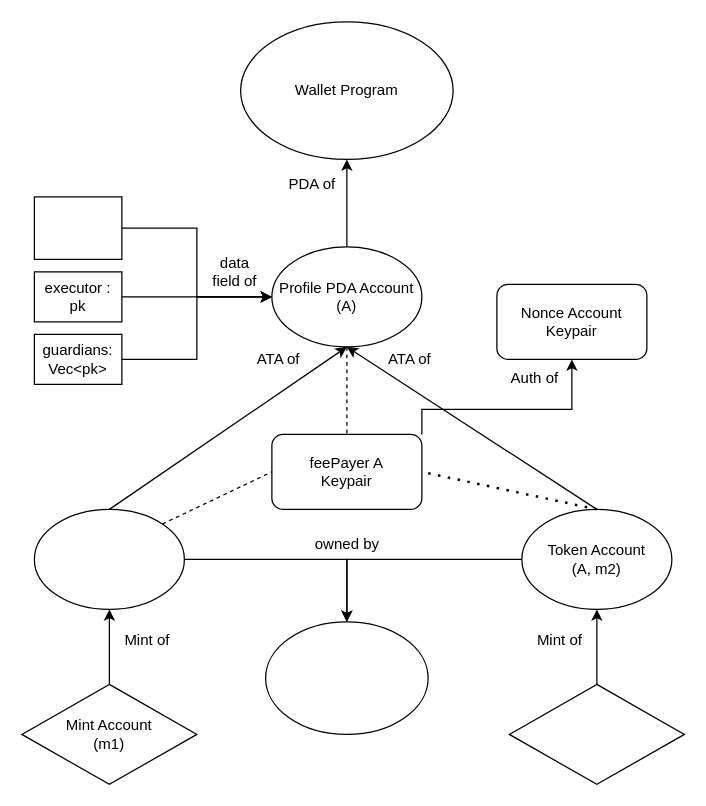
Image size: 706x806. Some labels were removed from this diagram. The centre of each missing label's shape, as x and y in pixels:
"Mint Account (m2)" belongs at point 596,733.
"recovery_ threshold: u8" belongs at point 77,227.
"Token Account (A, m1)" belongs at point 108,558.
"Token Program" belongs at point 346,677.
